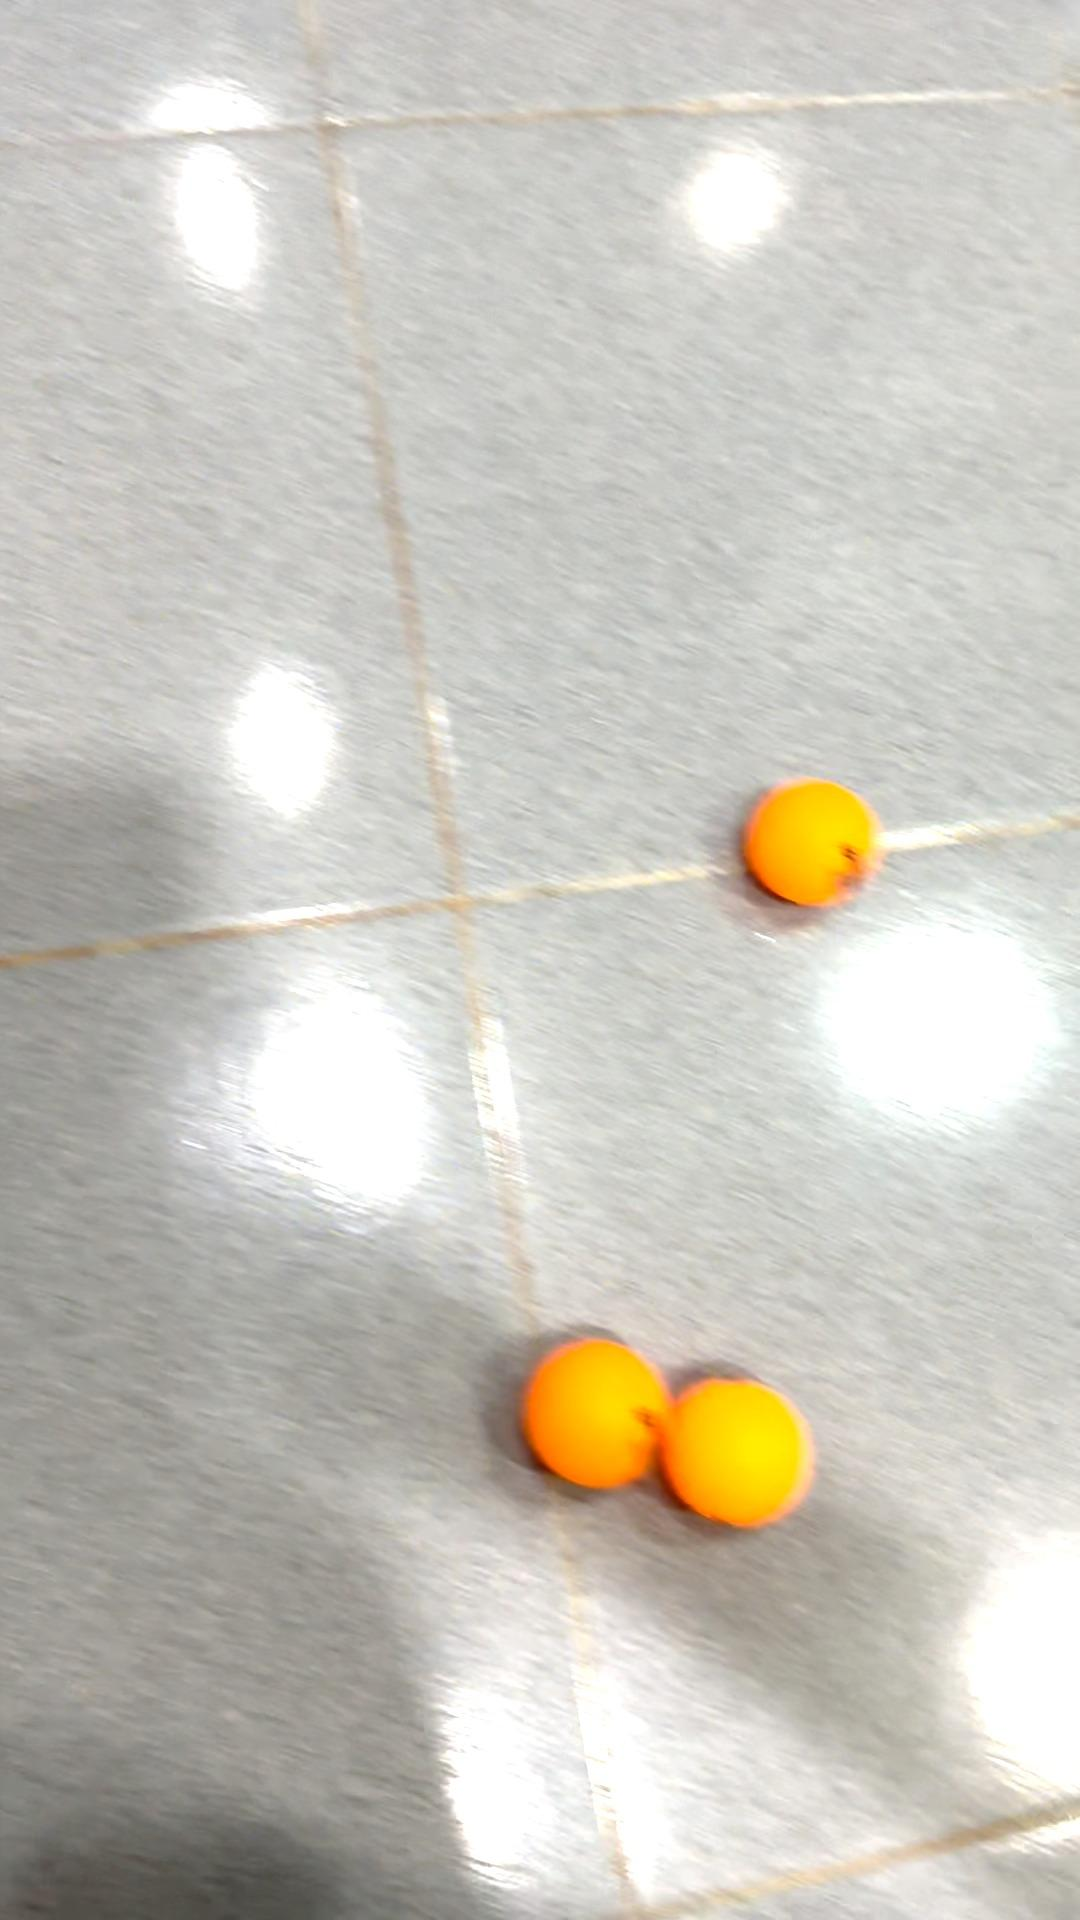oball: (661, 1367, 815, 1539), (514, 1331, 671, 1497), (742, 765, 880, 909)
